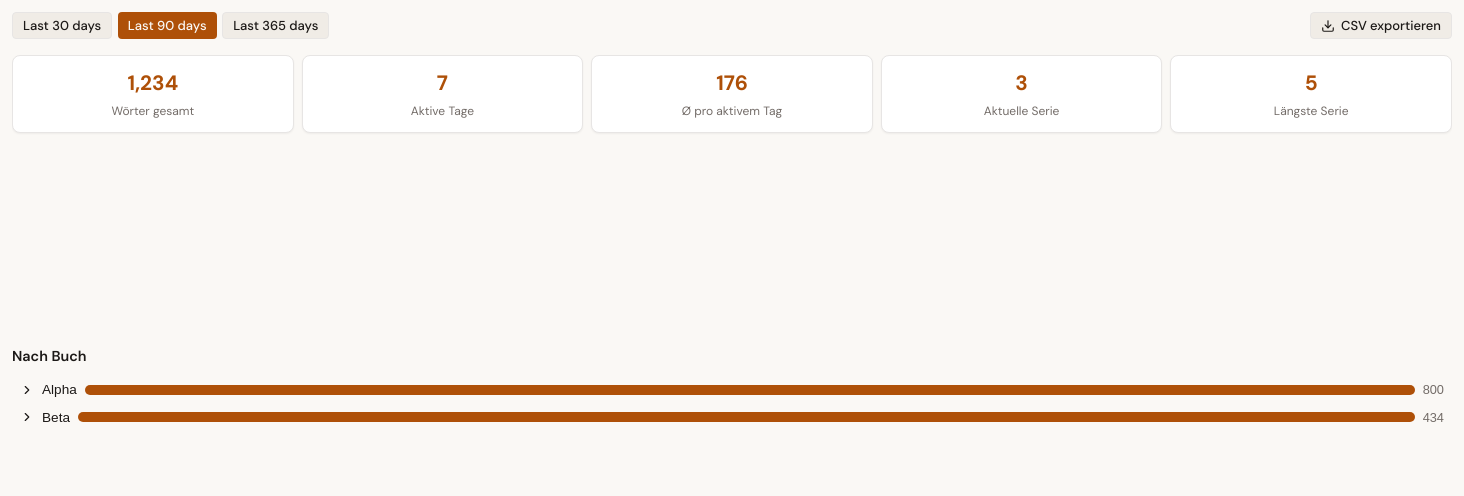
Scenario: WritingHistoryView › expands a book row into its per-chapter breakdown
This screenshot has width=1464, height=496.
Expected: the element with test id "writing-history-by-book" is shown, [12,345,1452,431]
Step 1. Click the button with test id "writing-history-book-b1" → x=732, y=390, box [12,376,1452,404]
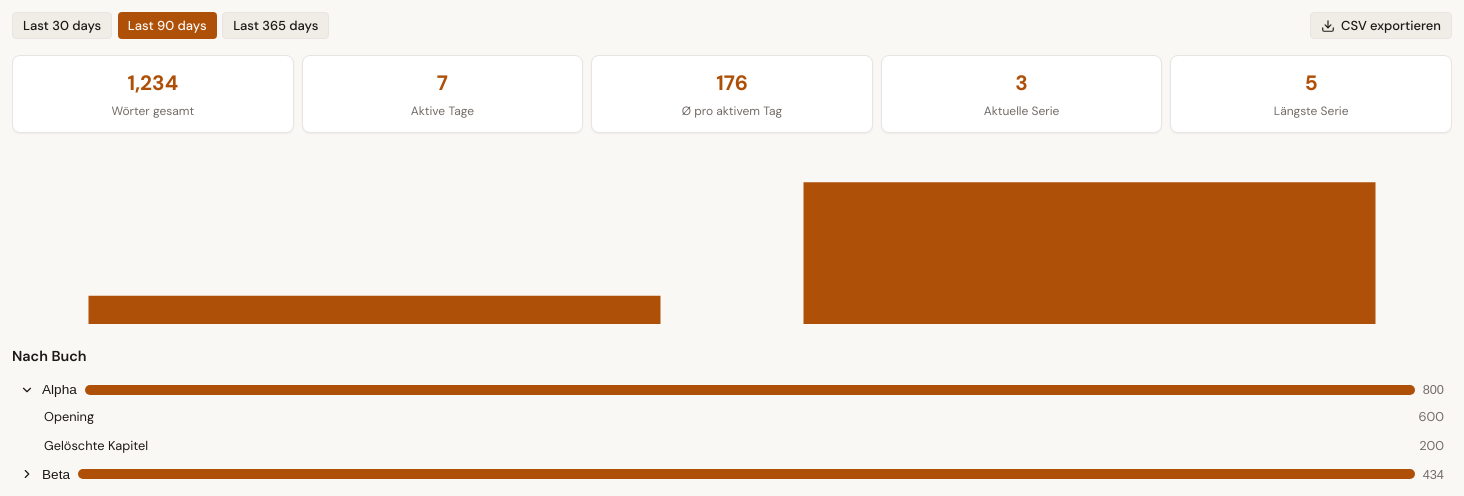
Result: the list with test id "writing-history-chapters-b1" shows "Opening" at [44,408,94,426]
Result: the list with test id "writing-history-chapters-b1" shows "Gelöschte Kapitel" at [44,437,148,454]
